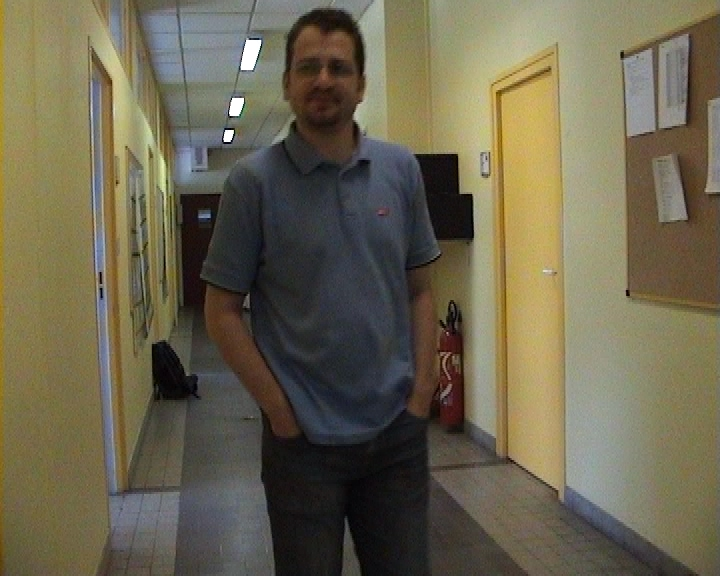leave bag unattended: (129, 329, 211, 422)
